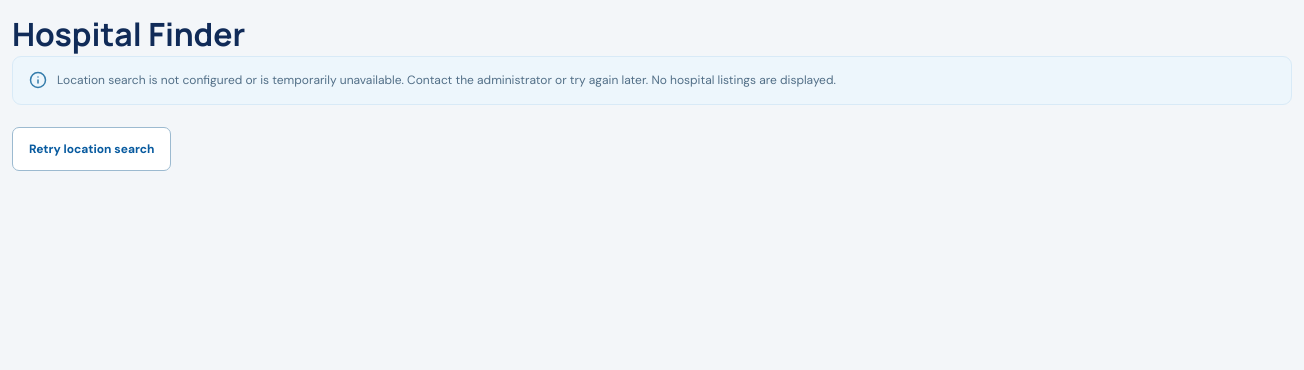
Test: unconfigured account finder does not silently substitute fictional facilities and can retry
This screenshot has width=1304, height=370.
Expected: the text "No hospital listings are displayed" is shown, [57,72,836,88]
Click the button "Retry location search". click: (92, 149)
box: [12,127,172,171]
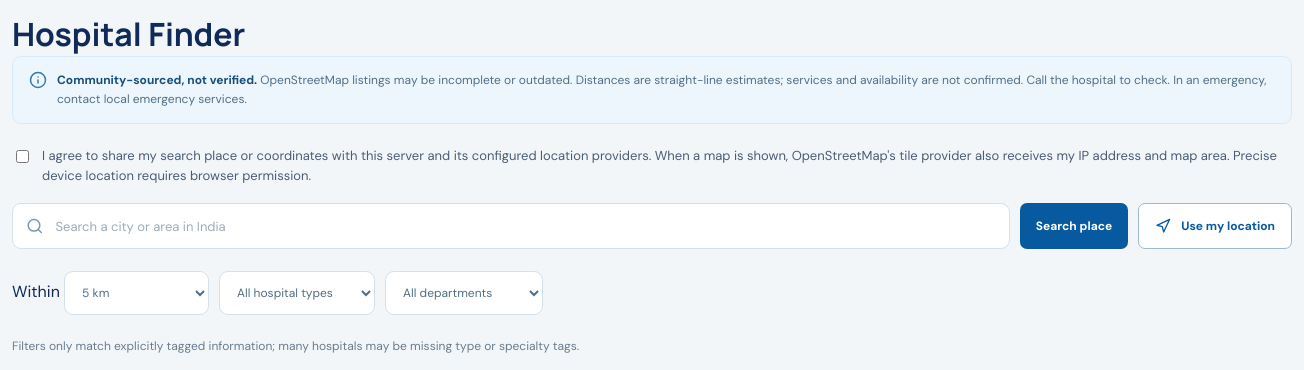
Result: the text "Community-sourced, not verified." is shown at [57,72,257,88]
